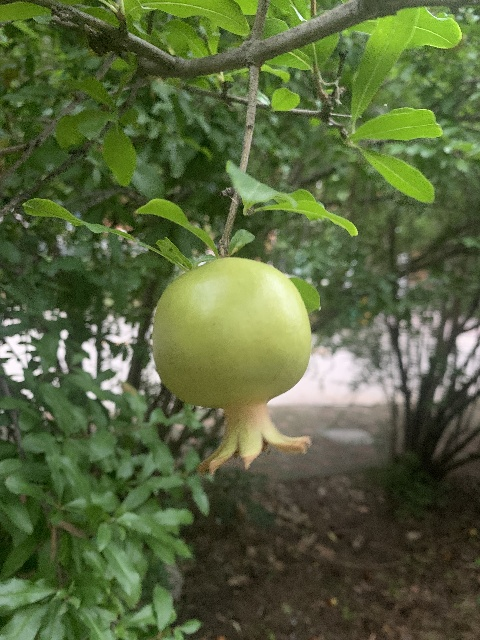mid-growth: (150, 258, 314, 476)
